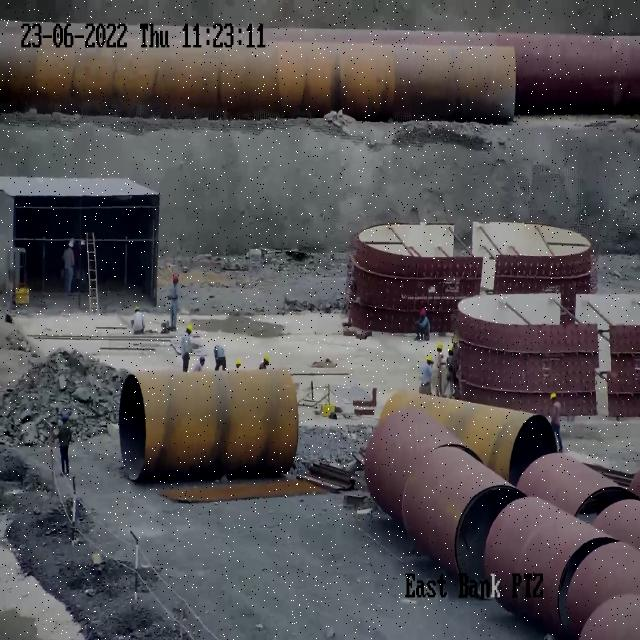Helmet: (62, 410, 69, 420), (426, 352, 433, 361), (437, 342, 444, 351), (187, 322, 193, 332), (419, 308, 426, 316), (447, 345, 454, 352), (264, 354, 270, 362), (172, 274, 180, 280), (235, 359, 242, 365), (550, 392, 557, 398), (68, 240, 74, 246)
